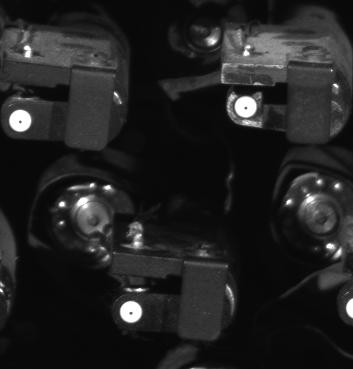fiber: (4, 102, 38, 138), (115, 295, 147, 326), (230, 92, 261, 123)
